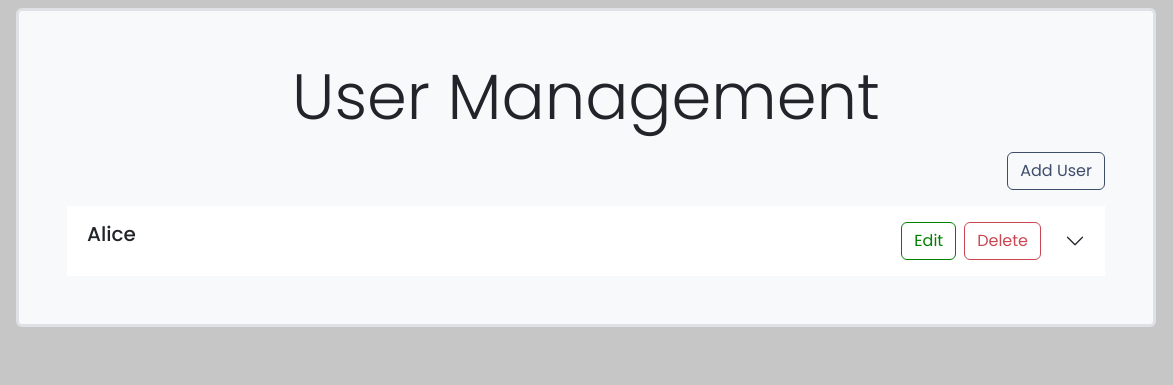
Scenario: shows error if delete fails
What coordinates should you click on to do the following:
click the button "Delete"
I would click on:
 (1003, 241)
Its box is x1=964 y1=222 x2=1041 y2=260.
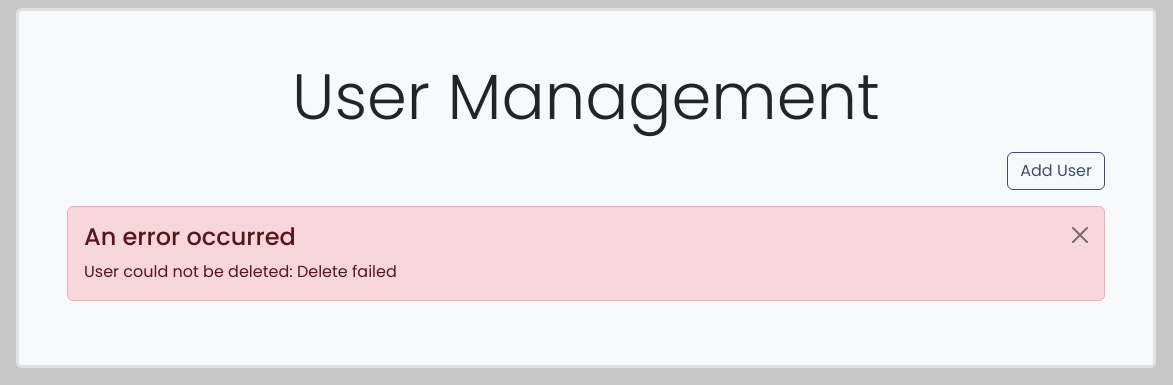
Now the text "An error occurred User could not be deleted: Delete failed" is shown, box x1=67 y1=206 x2=1105 y2=301
